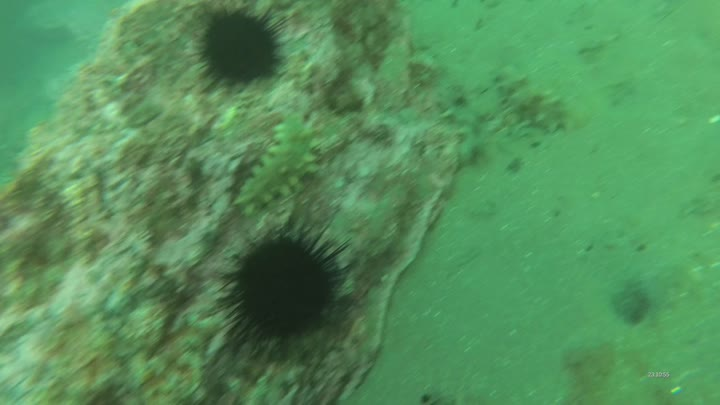echinus: (215, 216, 362, 366), (190, 1, 296, 99)
holothurian: (234, 114, 326, 215), (491, 67, 569, 137)
